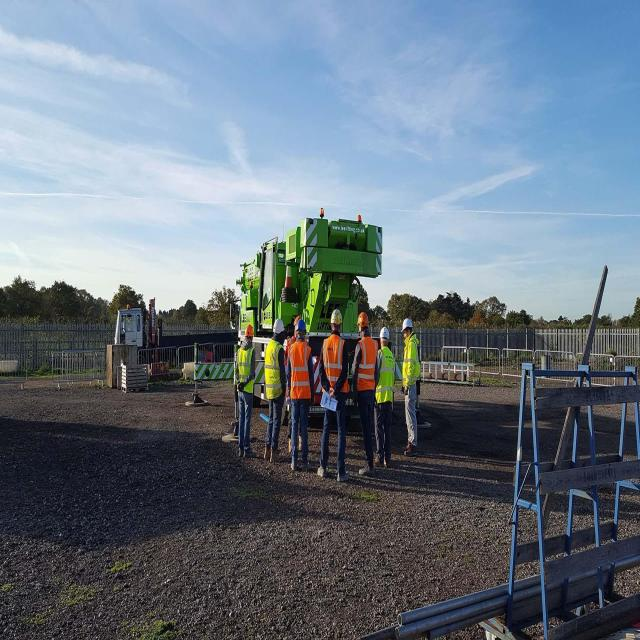head_helmet: (272, 318, 284, 336), (295, 317, 307, 335), (357, 310, 369, 328), (331, 308, 342, 327), (379, 326, 390, 341), (401, 317, 412, 330), (245, 326, 253, 338)
person: (317, 307, 349, 481), (353, 313, 376, 475), (288, 320, 312, 471), (236, 326, 258, 460), (264, 318, 284, 463), (377, 326, 397, 468), (402, 318, 420, 456)
shoes: (335, 464, 352, 482), (357, 462, 375, 478), (404, 442, 419, 459), (269, 449, 285, 464), (243, 446, 258, 461), (316, 462, 326, 478), (300, 458, 312, 471), (289, 458, 298, 474)
vest: (287, 340, 313, 400), (322, 332, 346, 392), (264, 338, 284, 402), (354, 337, 376, 390), (376, 344, 394, 404), (236, 344, 257, 394), (402, 338, 421, 388)
